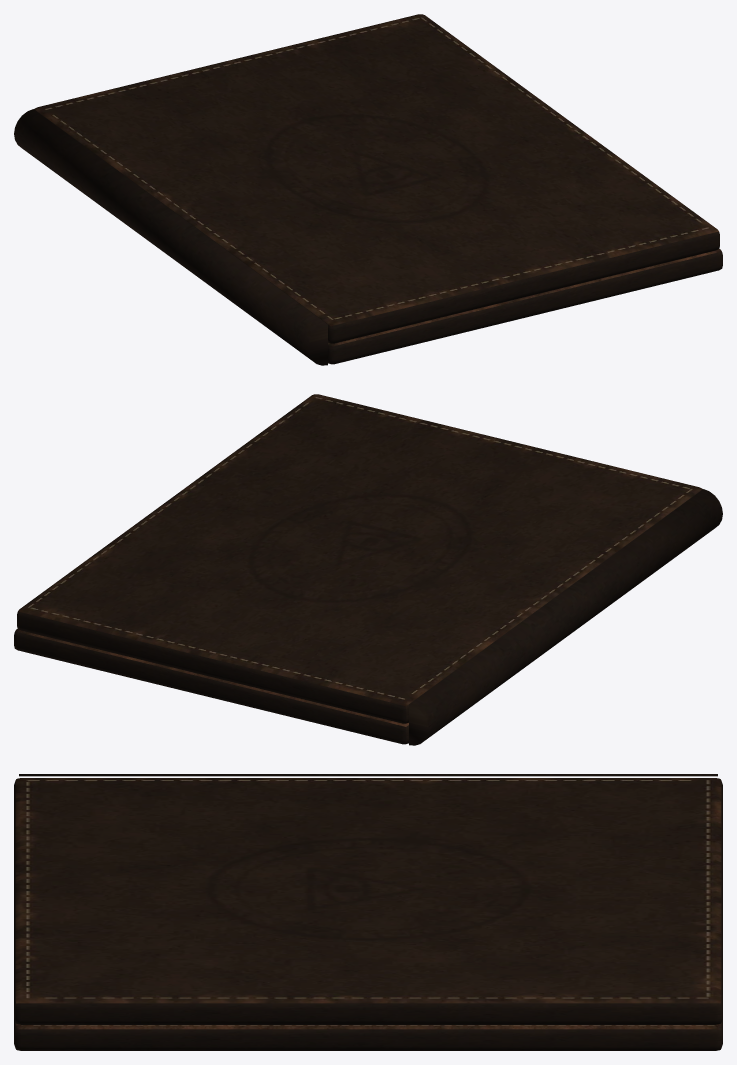
Rendered from fbi_id_molder.glb.
3 renders of one model, top to bottom at view 1: azimuth 30°, elevation 25°; view 2: azimuth 150°, elevation 25°; view 3: azimuth 270°, elevation 25°, orthographic. The views are drawn at different scales.
Visible parts, largest first — view 1: cover_mesh, base; view 2: cover_mesh, base; view 3: cover_mesh, base.
Part boxes in pixels (box(x1,y1,x2,y2)): cover_mesh: box(34, 14, 719, 343); base: box(14, 109, 722, 365); cover_mesh: box(17, 394, 702, 723); base: box(14, 489, 722, 745); cover_mesh: box(14, 778, 722, 1024); base: box(14, 774, 722, 1050).
Bounding box in the file's own units: 0.0879 × 0.0084 × 0.11.
Materials: 1 (1 with a texture image).
